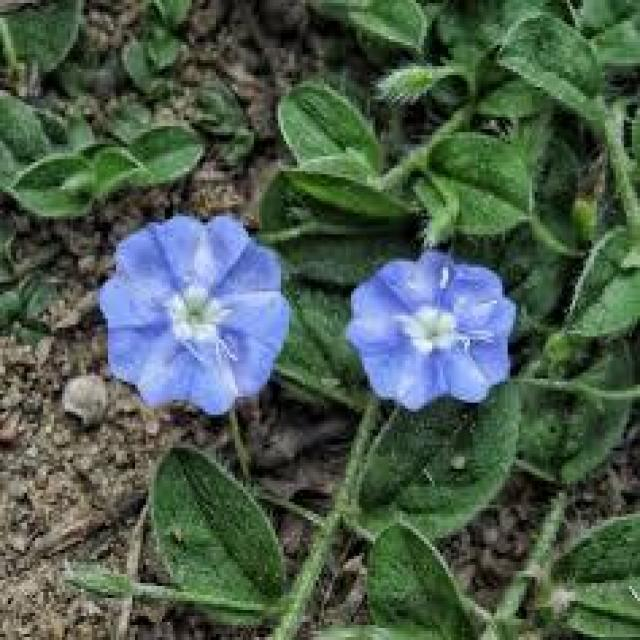organic waste: (102, 213, 290, 415), (344, 246, 520, 399)
